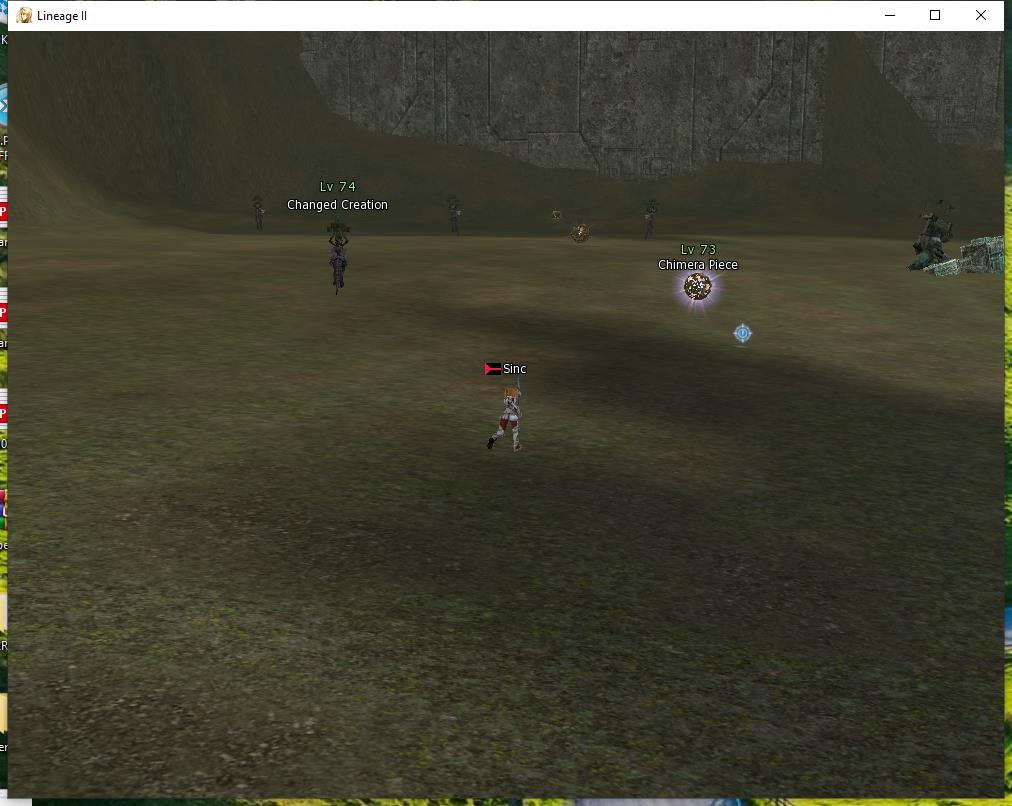monster: (281, 172, 392, 299), (912, 197, 1005, 291), (656, 235, 741, 318), (635, 188, 669, 244), (438, 185, 468, 237), (249, 193, 274, 237), (571, 220, 600, 246), (544, 201, 565, 222)
